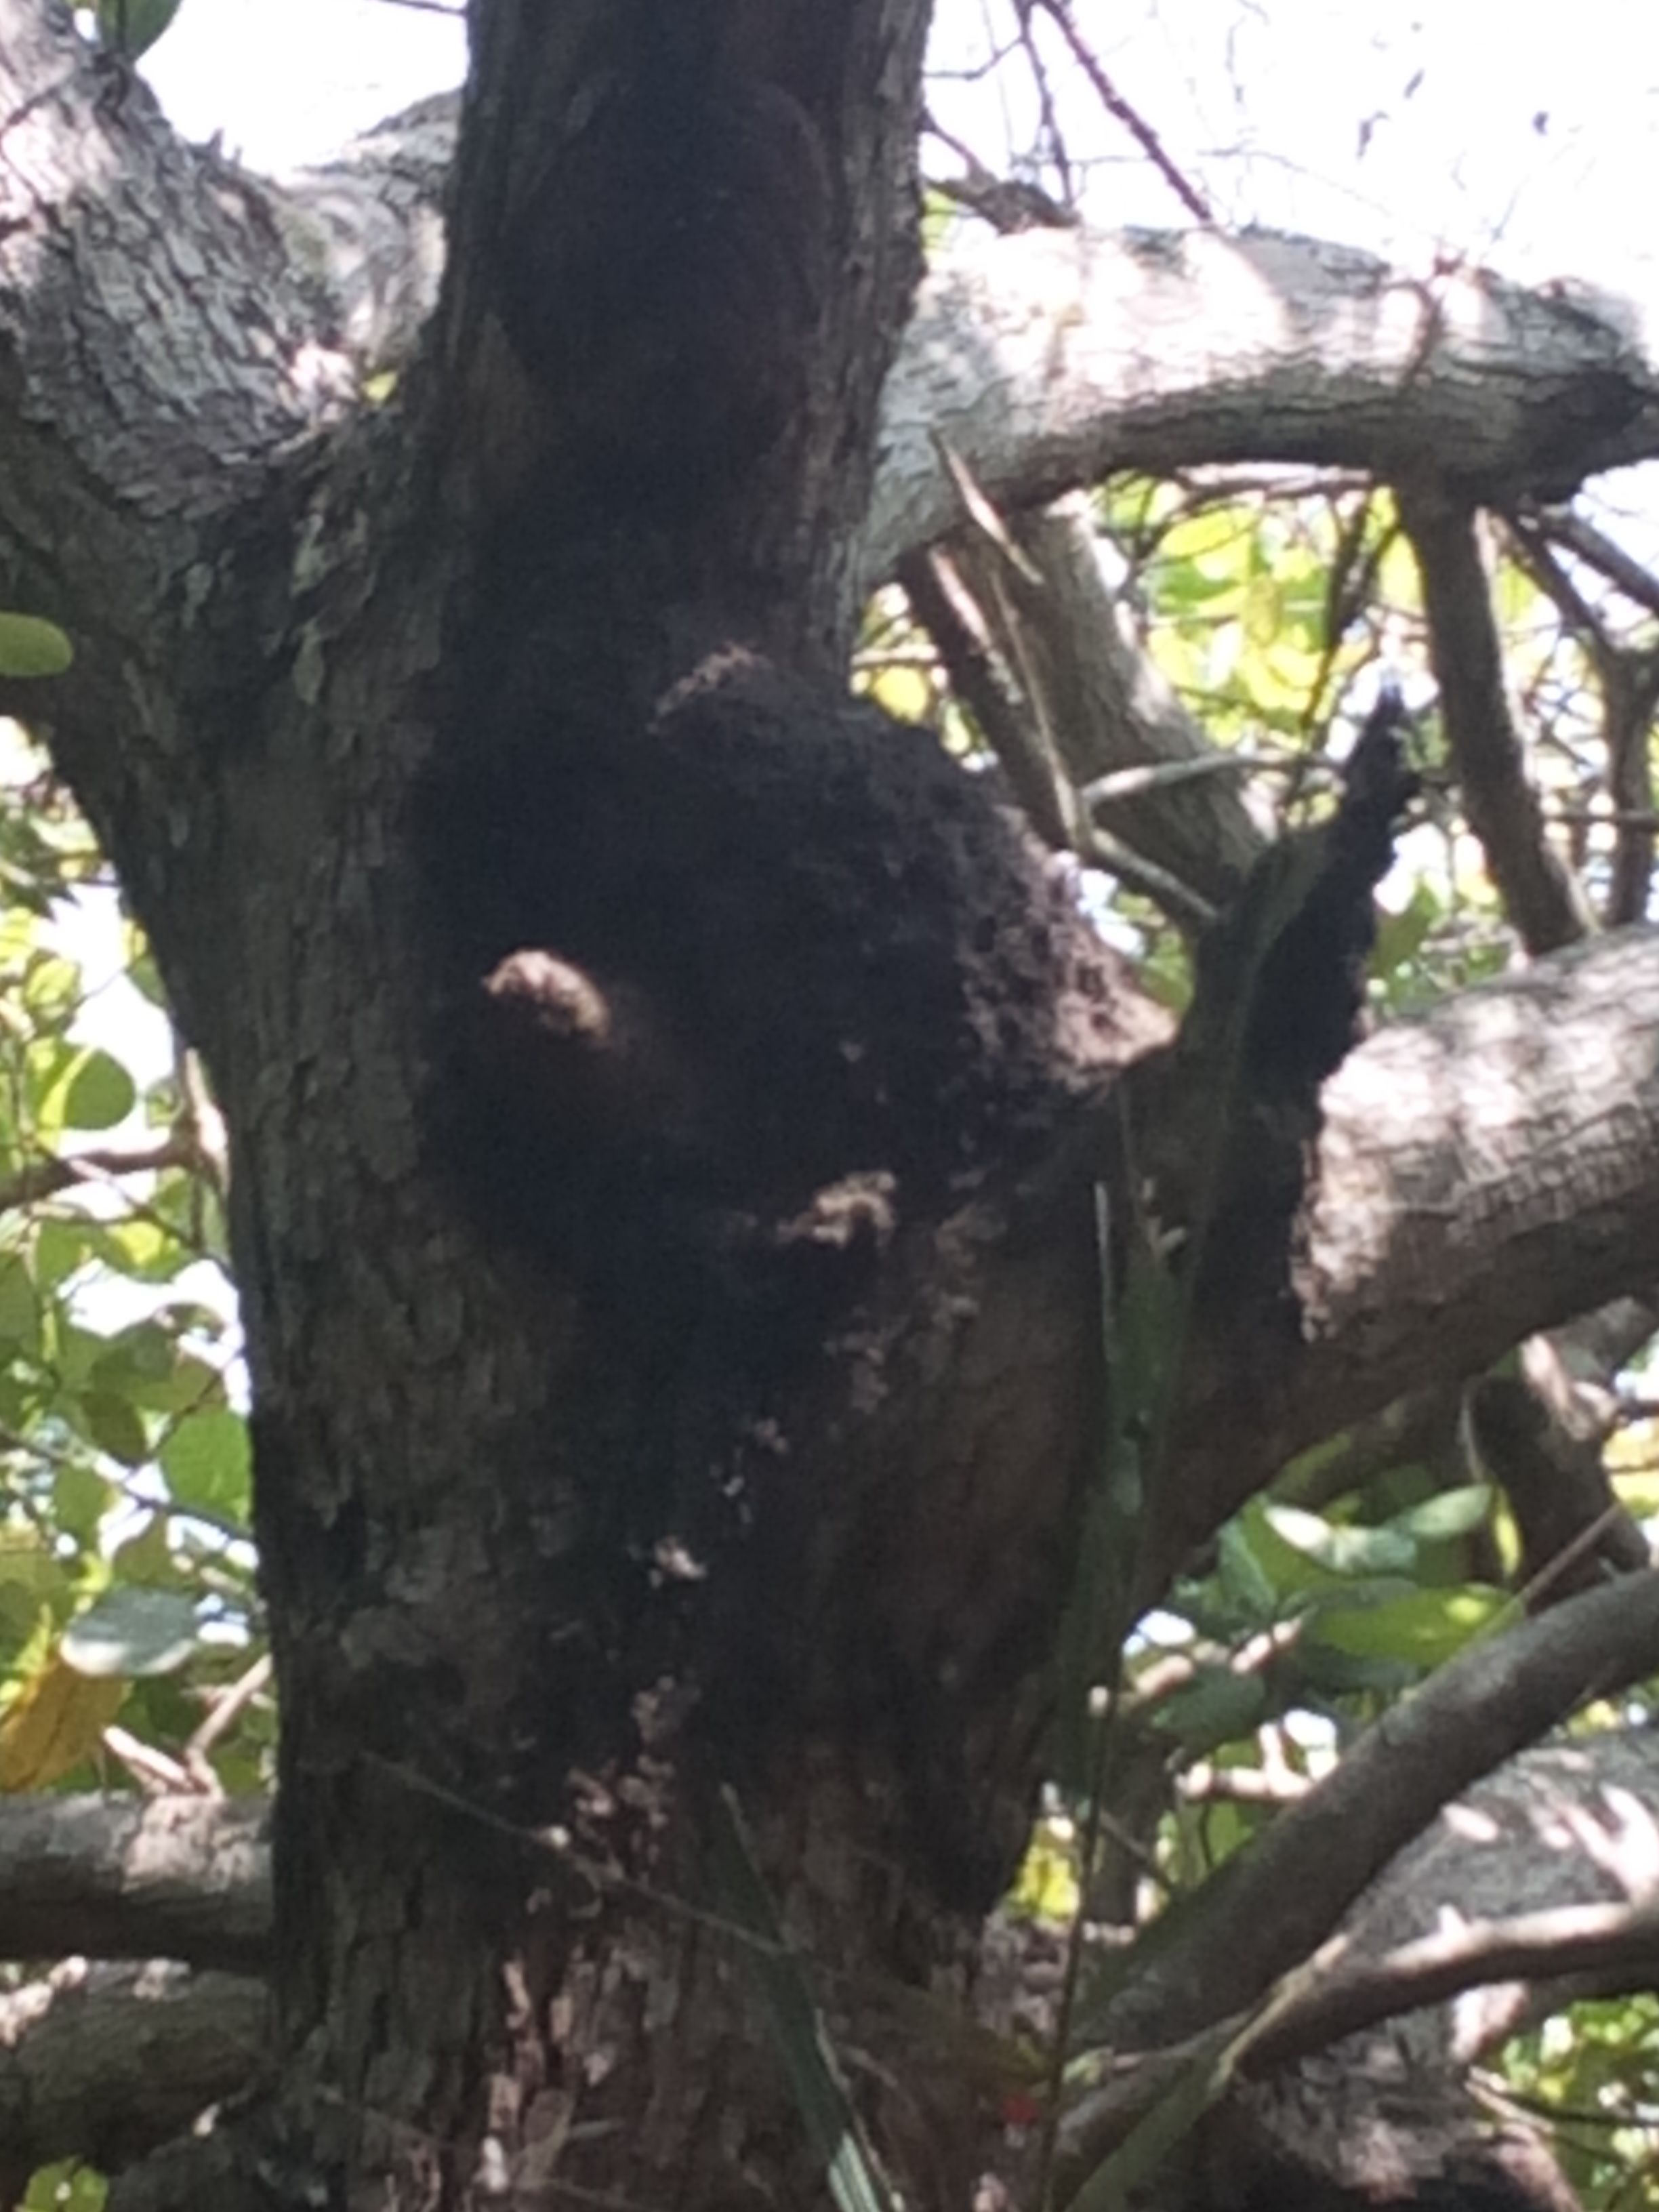Termites: (436, 594, 1107, 1289)
